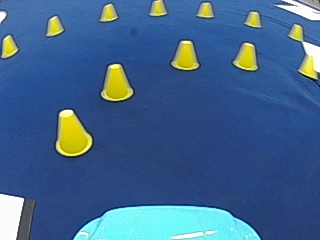cone: (54, 108, 91, 155), (100, 62, 133, 101), (170, 39, 199, 70), (232, 42, 258, 70), (297, 49, 315, 76), (1, 34, 18, 57), (45, 15, 63, 36), (99, 3, 118, 21), (244, 10, 261, 27), (149, 0, 166, 16), (196, 2, 213, 18), (287, 23, 303, 40)
